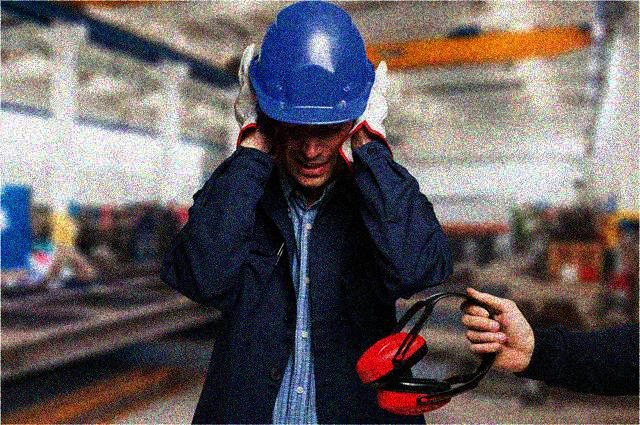helmet: (243, 2, 382, 184)
